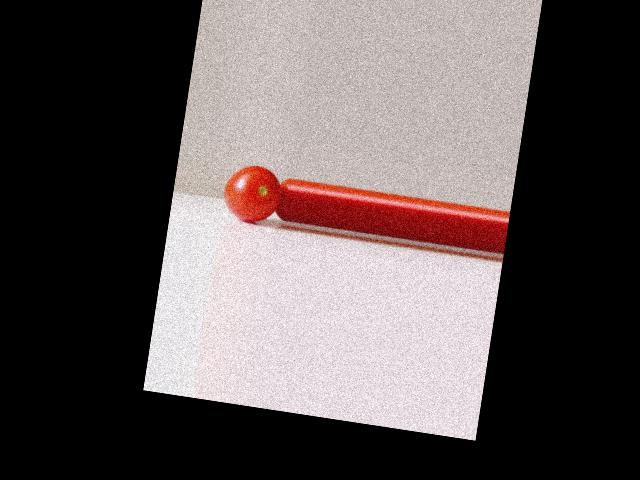tomato: (220, 161, 284, 225)
